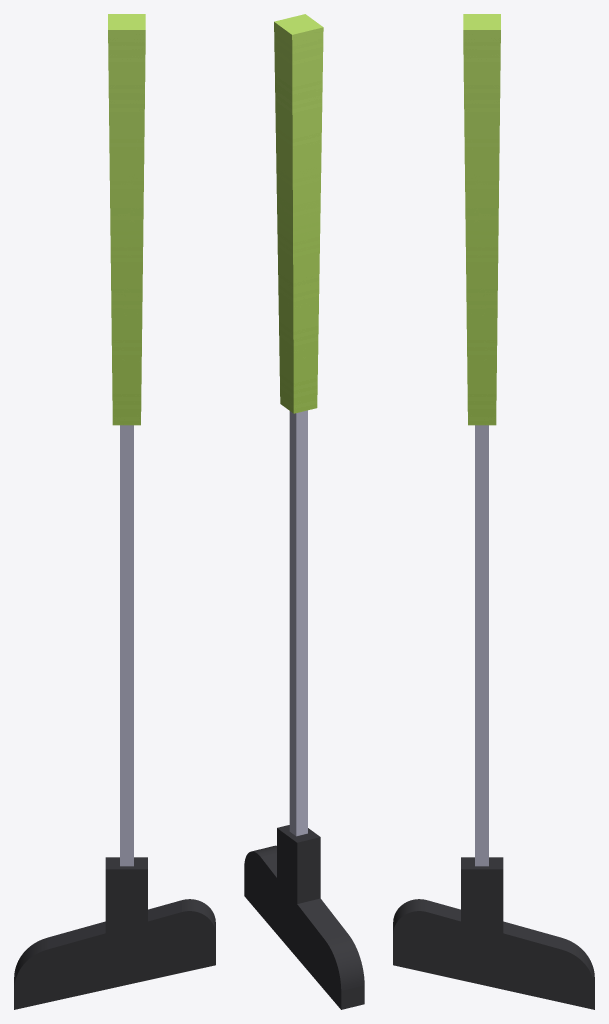
The model's file is club-green.glb.
3 views of the same model, side by side, from view 1: azimuth 90°, elevation 25°; view 2: azimuth 210°, elevation 25°; view 3: azimuth 270°, elevation 25° (orthographic). The views are drawn at different scales.
Parts seen in each view (by area): view 1: club-green; view 2: club-green; view 3: club-green.
Boxes of the visible parts, x1,y1,x2,y2 form: club-green: (14,14,215,1009); club-green: (244,14,364,1009); club-green: (393,14,594,1009).
Size of the model in its own units: 0.0345 by 0.9899 by 0.1844.
Materials: 1 (1 with a texture image).
